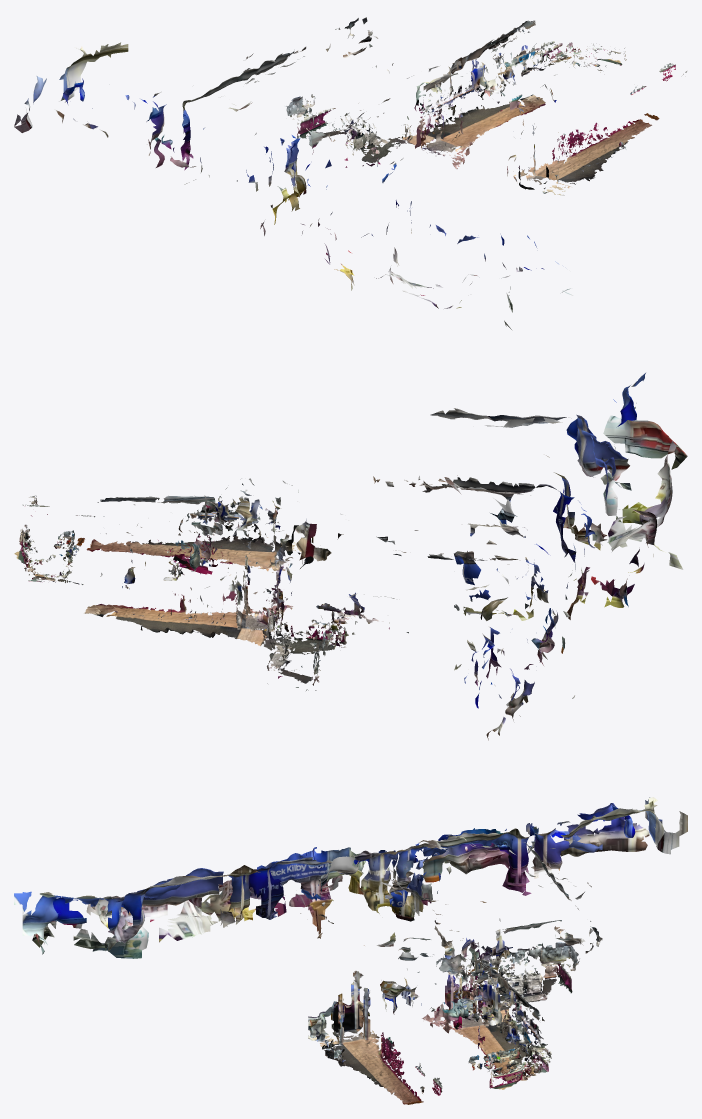
The model's file is 128728-Jkcc2-tex.glb.
3 views of the same model, one above another, from view 1: azimuth 30°, elevation 25°; view 2: azimuth 150°, elevation 25°; view 3: azimuth 270°, elevation 25° (orthographic). The views are drawn at different scales.
Visible parts, largest first — view 1: Node; view 2: Node; view 3: Node.
Boxes of the visible parts, x1,y1,x2,y2 form: Node: [14, 17, 686, 329]; Node: [14, 373, 687, 740]; Node: [14, 797, 687, 1104].
Size of the model in its own units: 34.55 by 6.58 by 37.32.
30 materials, 30 textured.
